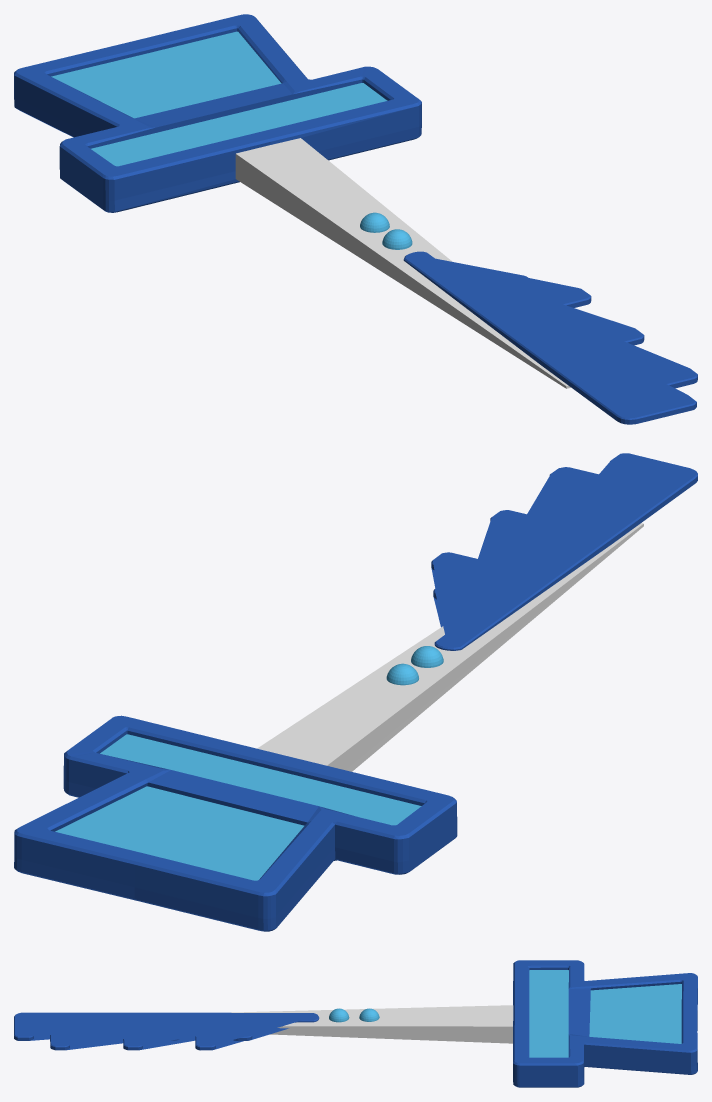
Rendered from HatKey1.fbx.
3 renders of one model, top to bottom at view 1: azimuth 30°, elevation 25°; view 2: azimuth 150°, elevation 25°; view 3: azimuth 270°, elevation 25°, orthographic. The views are drawn at different scales.
Visible parts, largest first — view 1: Plane.009; view 2: Plane.009; view 3: Plane.009.
Boxes of the visible parts, x1,y1,x2,y2 form: Plane.009: (14, 14, 697, 424); Plane.009: (14, 453, 697, 931); Plane.009: (14, 960, 697, 1087).
Bounding box in the file's own units: 95.75 × 11.61 × 265.
